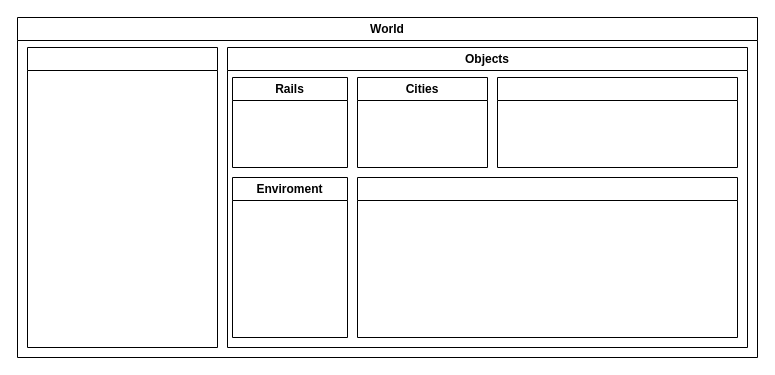
This 775x375 diagram has some shape labels left out. The shapes that lost their labels are listed below. From the top down, each one's centre as x and y in pixels, then its label:
At point 617,122: "Industries".
At point 122,197: "Terrain".
At point 547,257: "Companies".
